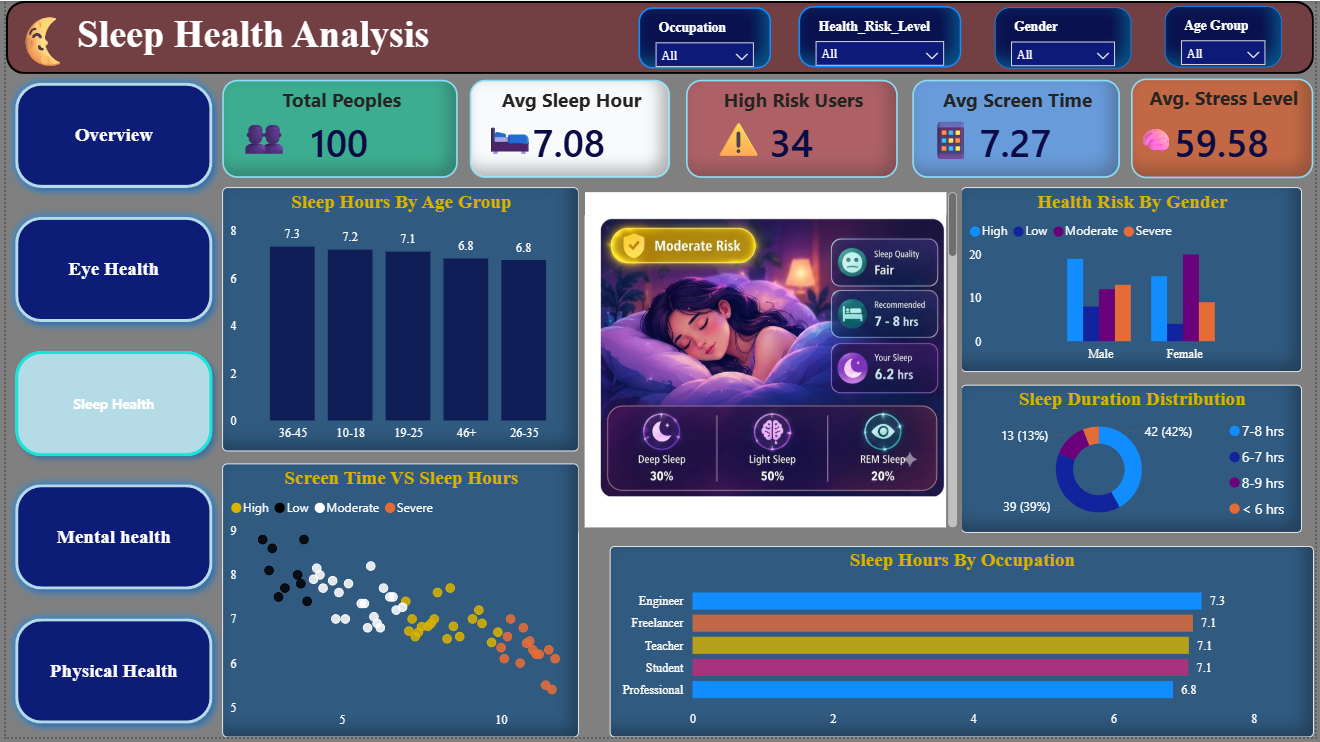

The dashboard page shown, as its layout file describes it:
{"tool":"powerbi","page":{"name":"Sleep Health","canvas":[1280,720],"ordinal":2},"visuals":[{"type":"shape","box":[0,0,1279.6,71.4],"z":0},{"type":"pageNavigator","box":[0,71.4,211.2,649],"z":1000},{"type":"cardVisual","title":"Total Peoples","fields":{"Data":["CountNonNull(Digital_Screen_Time_Health_Impact_100Rows.User_ID)"]},"box":[211.2,77.6,230.6,95.9],"z":2000,"group":"g1"},{"type":"cardVisual","title":"Avg Sleep Hour","fields":{"Data":["Avg(Digital_Screen_Time_Health_Impact_100Rows.Avg Sleep Hours)"]},"box":[453.1,77.6,195.9,95.9],"z":2000,"group":"g2"},{"type":"clusteredColumnChart","title":"Sleep Hours By Age Group","fields":{"Category":["Digital_Screen_Time_Health_Impact_100Rows.Age Group"],"Y":["Avg(Digital_Screen_Time_Health_Impact_100Rows.Sleep_Hours)"]},"box":[211.2,182.7,349,258.2],"z":2000},{"type":"cardVisual","title":"Avg Screen Time","fields":{"Data":["Avg(Digital_Screen_Time_Health_Impact_100Rows.Avg Screen Time)"]},"box":[886.7,77.6,203.1,95.9],"z":3000,"group":"g4"},{"type":"scatterChart","title":"Screen Time VS Sleep Hours","fields":{"Y":["Avg(Digital_Screen_Time_Health_Impact_100Rows.Sleep_Hours)"],"X":["Digital_Screen_Time_Health_Impact_100Rows.Daily_Screen_Time_Hours"],"Series":["Digital_Screen_Time_Health_Impact_100Rows.Health_Risk_Level"]},"box":[211.2,452,349,268.4],"z":3000},{"type":"cardVisual","title":"Avg. Stress Level","fields":{"Data":["Digital_Screen_Time_Health_Impact_100Rows.Average Stress"]},"box":[1101,75.5,178.6,98],"z":4000,"group":"g5"},{"type":"clusteredBarChart","title":"Sleep Hours By Occupation","fields":{"Category":["Digital_Screen_Time_Health_Impact_100Rows.Occupation"],"Y":["Avg(Digital_Screen_Time_Health_Impact_100Rows.Sleep_Hours)"]},"box":[590.6,533.2,688.5,187.1],"z":4000},{"type":"cardVisual","title":"High Risk Users","fields":{"Data":["Sum(Digital_Screen_Time_Health_Impact_100Rows.High Risk Users)"]},"box":[665.3,77.6,207.1,95.9],"z":5000,"group":"g3"},{"type":"clusteredColumnChart","title":"Health Risk By Gender","fields":{"Category":["Digital_Screen_Time_Health_Impact_100Rows.Gender"],"Series":["Digital_Screen_Time_Health_Impact_100Rows.Health_Risk_Level"],"Y":["CountNonNull(Digital_Screen_Time_Health_Impact_100Rows.User_ID)"]},"box":[934.7,182.7,333.7,180.6],"z":5000},{"type":"donutChart","title":"Sleep Duration Distribution","fields":{"Category":["Digital_Screen_Time_Health_Impact_100Rows.Sleep Durationn Group"],"Y":["CountNonNull(Digital_Screen_Time_Health_Impact_100Rows.User_ID)"]},"box":[934.7,375.5,333.7,144.9],"z":6000},{"type":"textbox","box":[64.3,6.1,584.7,59.2],"z":7000},{"type":"slicer","fields":{"Values":["Digital_Screen_Time_Health_Impact_100Rows.Occupation"]},"box":[618.4,6.1,129.6,60.2],"z":8000},{"type":"slicer","fields":{"Values":["Digital_Screen_Time_Health_Impact_100Rows.Health_Risk_Level"]},"box":[775.5,5.1,159.2,60.2],"z":9000},{"type":"slicer","fields":{"Values":["Digital_Screen_Time_Health_Impact_100Rows.Gender"]},"box":[967.3,6.1,133.7,60.2],"z":10000},{"type":"slicer","fields":{"Values":["Digital_Screen_Time_Health_Impact_100Rows.Age Group"]},"box":[1133.7,5.1,114.3,60.2],"z":11000},{"type":"textbox","box":[0,0,80.6,77.6],"z":12000},{"type":"group","id":"g1","title":"Group 1","box":[211.2,77.6,230.6,95.9],"z":13000},{"type":"group","id":"g2","title":"Group 2","box":[453.1,77.6,195.9,95.9],"z":14000},{"type":"group","id":"g3","title":"Group 3","box":[665.3,77.6,207.1,95.9],"z":15000},{"type":"group","id":"g4","title":"Group 4","box":[886.7,77.6,203.1,95.9],"z":16000},{"type":"textbox","box":[461.3,101.1,66.3,64.3],"z":16000,"group":"g2"},{"type":"group","id":"g5","title":"Group 5","box":[1101,75.5,178.6,98],"z":17000},{"type":"textbox","box":[222.4,100,70.4,64.3],"z":17000,"group":"g1"},{"type":"textbox","box":[685.7,102.1,62.2,63.3],"z":17000,"group":"g3"},{"type":"textbox","box":[893.8,105.2,64.3,60.2],"z":18000,"group":"g4"},{"type":"tableEx","fields":{"Values":["SleepImages.Image Url"]},"box":[560.1,182.2,375.4,337.5],"z":18000},{"type":"textbox","box":[1102,112.2,67.3,61.2],"z":20000,"group":"g5"}]}

Visuals, with their boxes in screenshot pixels (x1, y1, x2, y2), scaled from the page's 1280x720 canvas onto the 1320x742 screenshot:
shape: 0 0 1319 74
pageNavigator: 0 74 218 741
"Total Peoples" cardVisual: 218 80 456 179
"Avg Sleep Hour" cardVisual: 467 80 669 179
"Sleep Hours By Age Group" clusteredColumnChart: 218 188 578 454
"Avg Screen Time" cardVisual: 914 80 1124 179
"Screen Time VS Sleep Hours" scatterChart: 218 466 578 741
"Avg. Stress Level" cardVisual: 1135 78 1319 179
"Sleep Hours By Occupation" clusteredBarChart: 609 549 1319 741
"High Risk Users" cardVisual: 686 80 900 179
"Health Risk By Gender" clusteredColumnChart: 964 188 1308 374
"Sleep Duration Distribution" donutChart: 964 387 1308 536
textbox: 66 6 669 67
slicer - Digital_Screen_Time_Health_Impact_100Rows.Occupation: 638 6 771 68
slicer - Digital_Screen_Time_Health_Impact_100Rows.Health_Risk_Level: 800 5 964 67
slicer - Digital_Screen_Time_Health_Impact_100Rows.Gender: 998 6 1135 68
slicer - Digital_Screen_Time_Health_Impact_100Rows.Age Group: 1169 5 1287 67
textbox: 0 0 83 80
"Group 1" group: 218 80 456 179
"Group 2" group: 467 80 669 179
"Group 3" group: 686 80 900 179
"Group 4" group: 914 80 1124 179
textbox: 476 104 544 170
"Group 5" group: 1135 78 1319 179
textbox: 229 103 302 169
textbox: 707 105 771 170
textbox: 922 108 988 170
tableEx - SleepImages.Image Url: 578 188 965 536
textbox: 1136 116 1206 179
